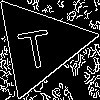T: (14, 20, 54, 70)
